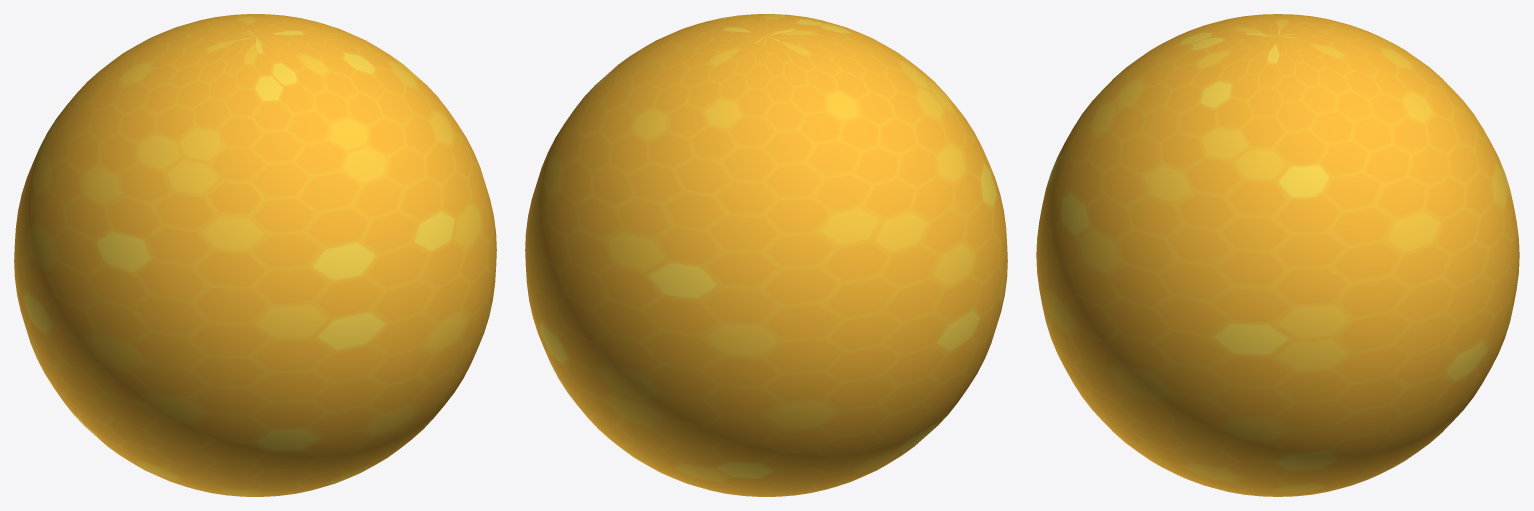
The model's file is HoneyPollen.fbx.
The picture shows the model from 3 angles, left to right: view 1: azimuth 30°, elevation 25°; view 2: azimuth 150°, elevation 25°; view 3: azimuth 270°, elevation 25°; orthographic projection.
Visible parts, largest first — view 1: pSphere1_phong1_0; view 2: pSphere1_phong1_0; view 3: pSphere1_phong1_0.
Boxes of the visible parts, <box> form: pSphere1_phong1_0: <box>14,14,496,496</box>; pSphere1_phong1_0: <box>525,14,1007,496</box>; pSphere1_phong1_0: <box>1036,14,1519,496</box>.
Bounding box in the file's own units: 161 × 161 × 161.
